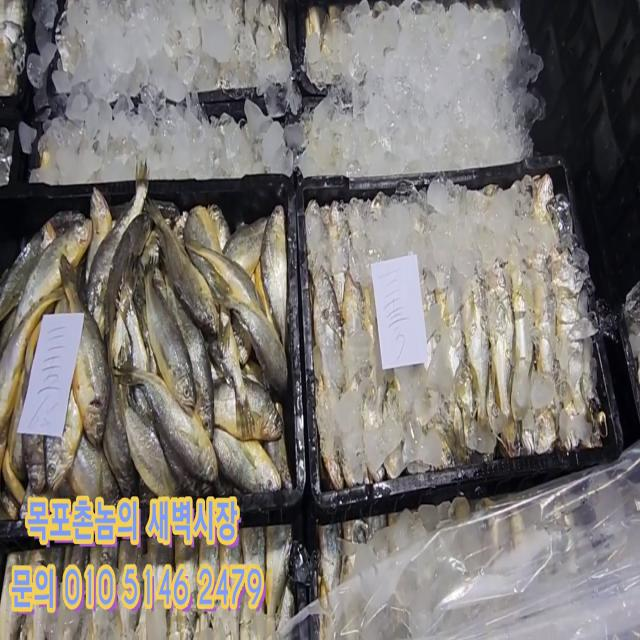Wet: (147, 206, 220, 335), (88, 170, 150, 314), (0, 291, 58, 434), (144, 260, 198, 410), (140, 381, 218, 481), (18, 217, 94, 310), (225, 294, 287, 392), (212, 427, 280, 493), (212, 374, 281, 439), (75, 328, 111, 444), (262, 204, 287, 337), (190, 348, 216, 436)
